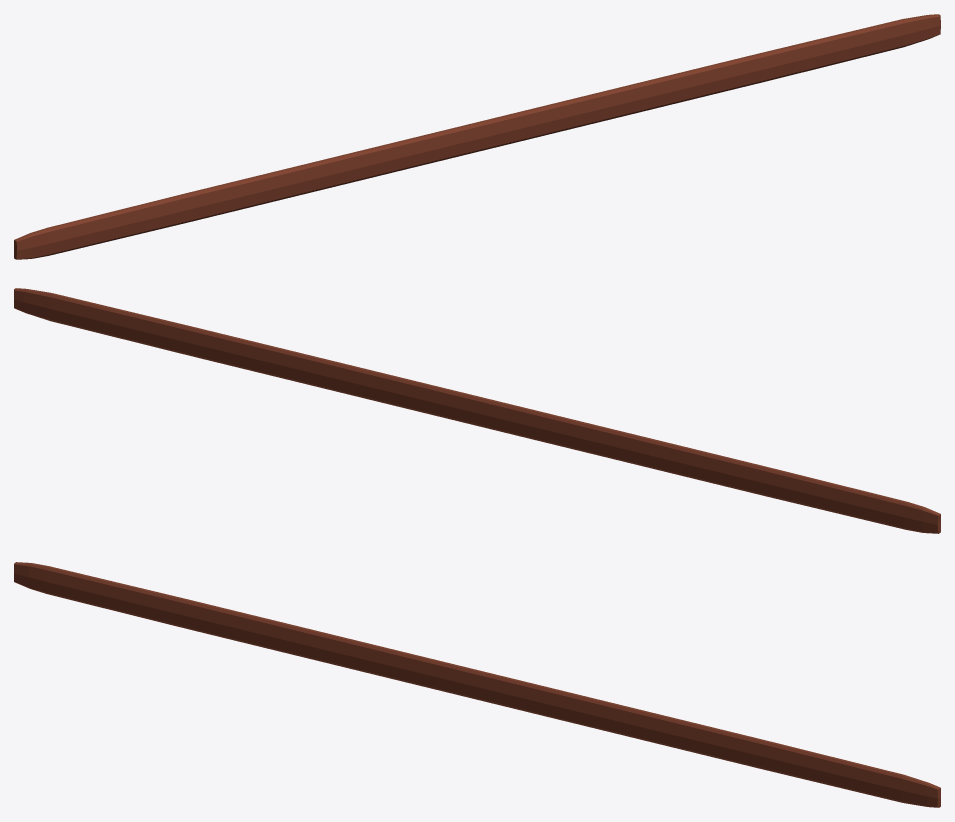
File: Plank.glb
The picture shows the model from 3 angles, top to bottom: view 1: azimuth 30°, elevation 25°; view 2: azimuth 150°, elevation 25°; view 3: azimuth 330°, elevation 25°; orthographic projection.
Visible parts, largest first — view 1: Cube; view 2: Cube; view 3: Cube.
Part boxes in pixels (left/top/right/bottom): Cube: left=14, top=14, right=940, bottom=259; Cube: left=14, top=288, right=940, bottom=533; Cube: left=14, top=562, right=940, bottom=807.
Bounding box in the file's own units: 29.29 × 0.8591 × 0.2584.
